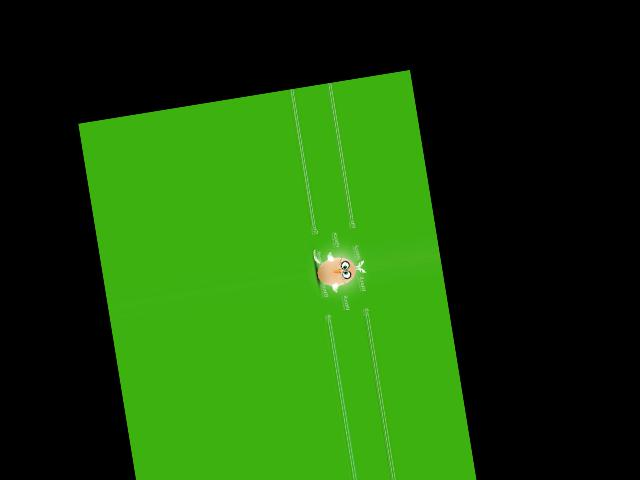egg: (314, 254, 357, 288)
